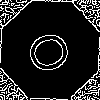O: (25, 25, 82, 77)
